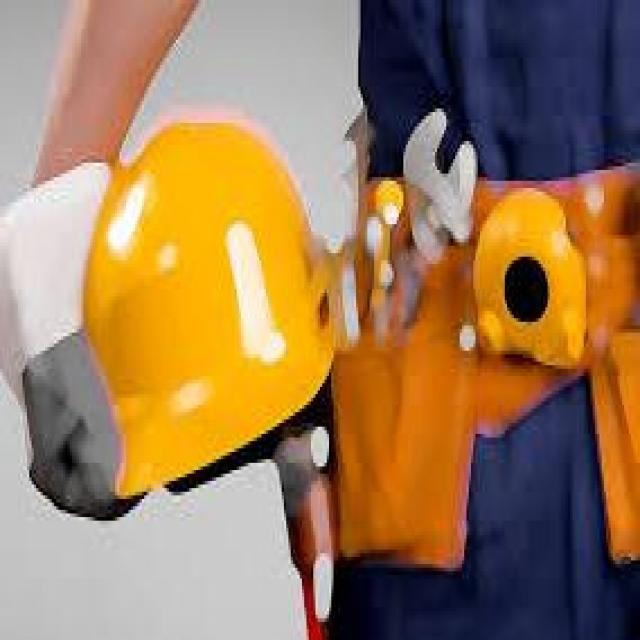Safety-Helmet: (59, 90, 349, 507)
